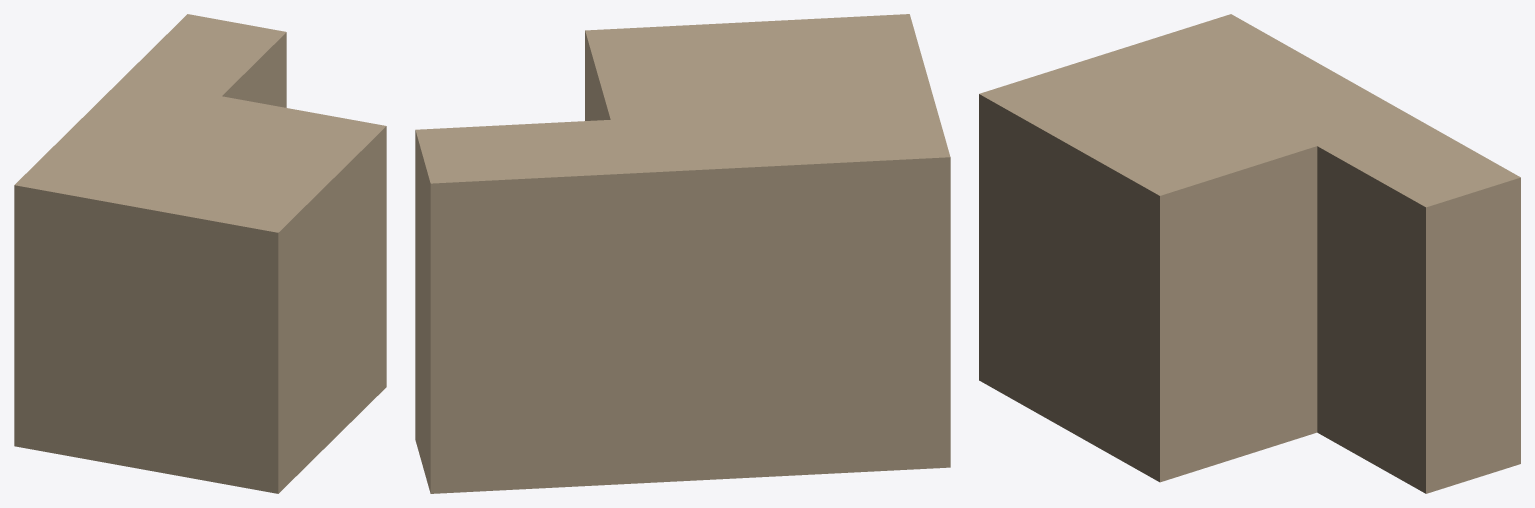
The model's file is bld_101805989.dae.
3 renders of one model, left to right at view 1: azimuth 30°, elevation 25°; view 2: azimuth 150°, elevation 25°; view 3: azimuth 270°, elevation 25°, orthographic. The views are drawn at different scales.
Visible parts, largest first — view 1: bld_101805989; view 2: bld_101805989; view 3: bld_101805989.
Part boxes in pixels (x1,y1,x2,y2): bld_101805989: (14,14,386,493); bld_101805989: (415,14,950,493); bld_101805989: (979,14,1520,493).
Bounding box in the file's own units: 11.59 × 13.71 × 8.
